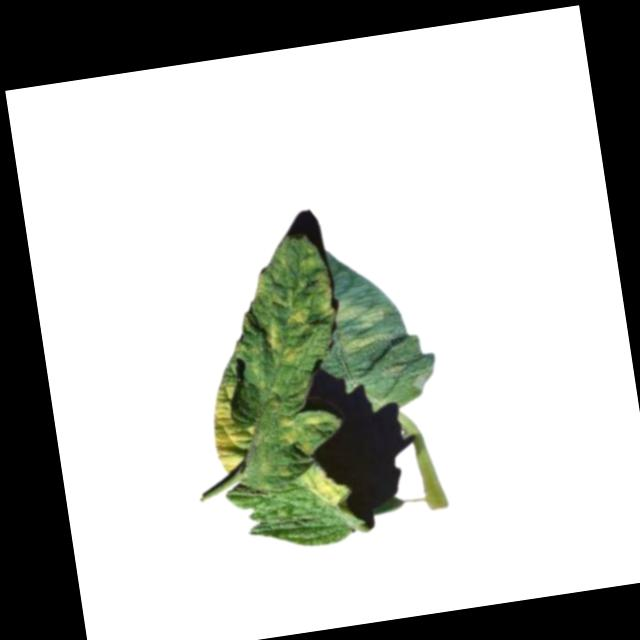Leaf_Mold: (203, 362, 258, 476), (332, 294, 398, 355), (260, 307, 317, 368), (273, 409, 329, 458), (300, 462, 349, 508)
